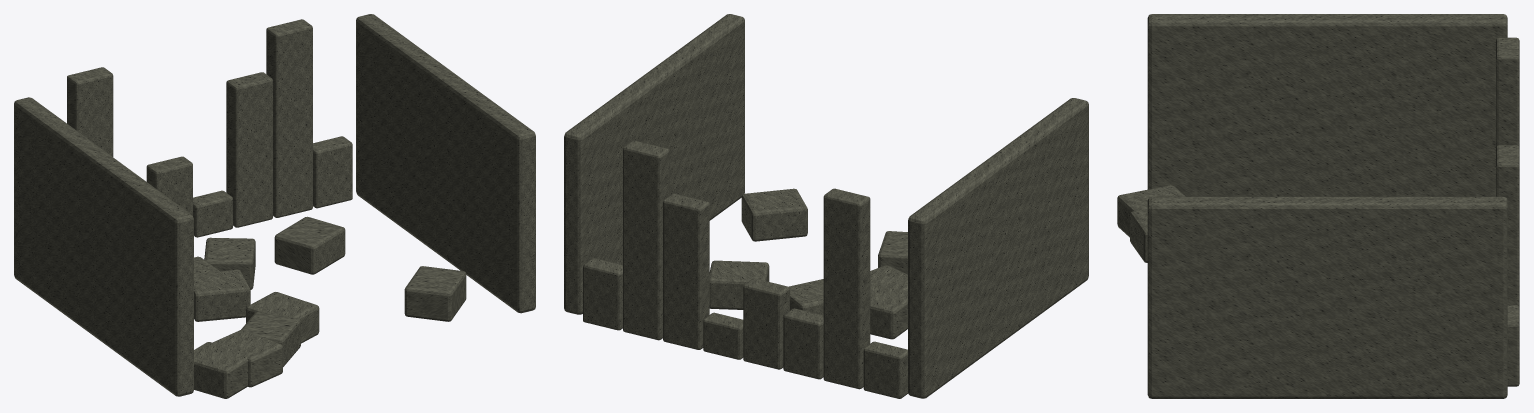
File: settlement_ruin.glb
The picture shows the model from 3 angles, left to right: view 1: azimuth 30°, elevation 25°; view 2: azimuth 150°, elevation 25°; view 3: azimuth 270°, elevation 25°; orthographic projection. The views are drawn at different scales.
Parts seen in each view (by area): view 1: ruined_wall, ruined_wall.001, broken_end.006, broken_end.005, broken_end.001, rubble.002, rubble.006, broken_end.007, rubble.007, rubble.001, rubble.008, broken_end.003 (+4 smaller); view 2: ruined_wall, ruined_wall.001, broken_end.001, broken_end.006, broken_end.005, broken_end.003, rubble.006, broken_end.002, broken_end.007, broken_end, rubble.002, rubble.003 (+4 smaller); view 3: ruined_wall.001, ruined_wall, broken_end.006, broken_end.001, rubble.001, broken_end.007, rubble.008.
Part boxes in pixels (x1,y1,x2,y2): ruined_wall: (14,97,193,396); ruined_wall.001: (356,14,535,313); broken_end.006: (266,19,312,217); broken_end.005: (226,72,272,227); broken_end.001: (67,67,113,156); rubble.002: (274,216,345,274); rubble.006: (404,266,466,321); broken_end.007: (313,136,352,208); rubble.007: (194,269,250,321); rubble.001: (194,342,249,398); rubble.008: (212,329,282,387); broken_end.003: (146,156,192,215); ruined_wall: (908,98,1088,398); ruined_wall.001: (564,14,744,314); broken_end.001: (823,188,870,389); broken_end.006: (623,140,669,340); broken_end.005: (663,193,709,349); broken_end.003: (743,278,789,369); rubble.006: (741,188,807,241); broken_end.002: (783,308,823,379); broken_end.007: (583,258,622,330); broken_end: (863,341,908,398); rubble.002: (709,260,769,309); rubble.003: (870,285,907,339); ruined_wall.001: (1147,196,1507,398); ruined_wall: (1147,14,1507,196); broken_end.006: (1496,145,1519,307); broken_end.001: (1496,37,1519,147); rubble.001: (1117,185,1185,237); broken_end.007: (1507,305,1519,386); rubble.008: (1130,210,1147,262).
Size of the model in its own units: 5.06 by 2.48 by 4.46.
1 material, 1 textured.
